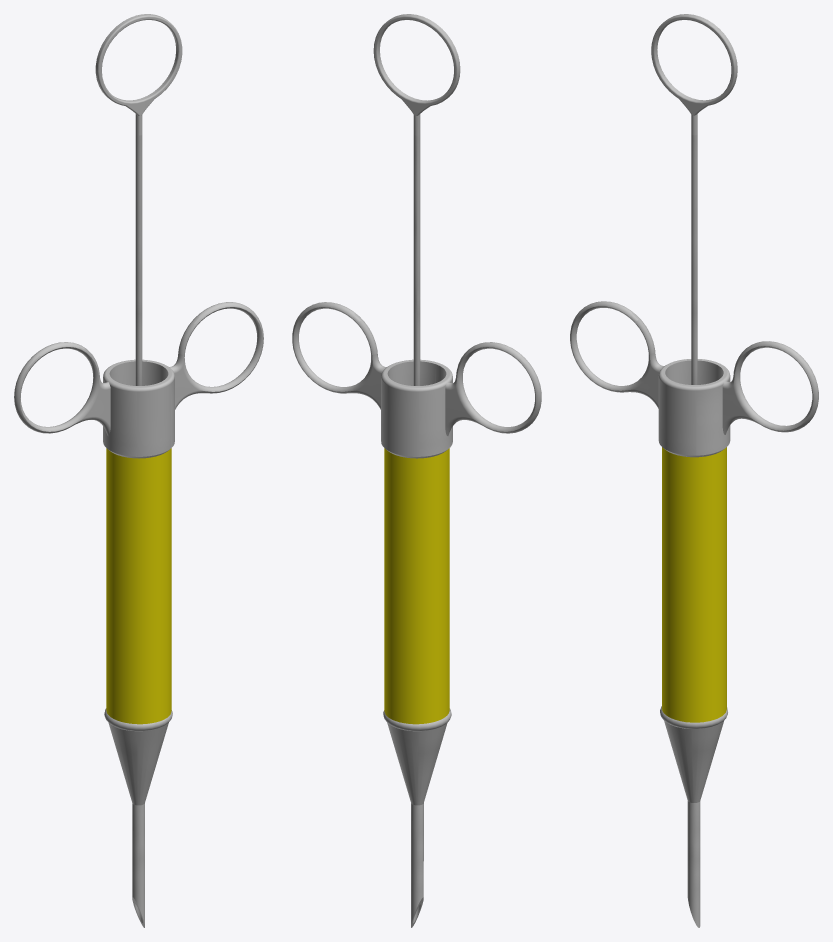
File: Syringe2.fbx
3 views of the same model, side by side, from view 1: azimuth 30°, elevation 25°; view 2: azimuth 150°, elevation 25°; view 3: azimuth 330°, elevation 25° (orthographic).
Parts seen in each view (by area): view 1: Syringe; view 2: Syringe; view 3: Syringe.
Boxes of the visible parts, x1,y1,x2,y2 form: Syringe: [14, 14, 263, 927]; Syringe: [292, 14, 541, 927]; Syringe: [570, 14, 818, 927].
Bounding box in the file's own units: 1.09 × 3.81 × 0.271.
Materials: 2 (1 with a texture image).
